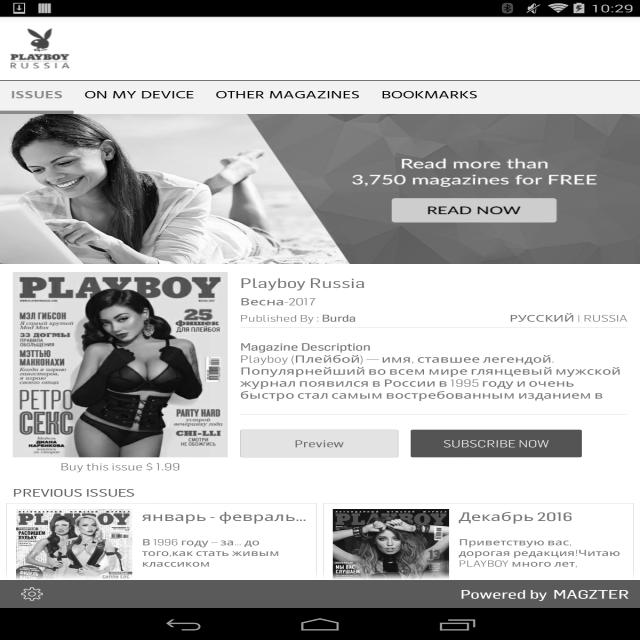ImageView: (0, 114, 640, 264), (13, 272, 228, 457), (16, 509, 132, 610), (333, 509, 449, 610), (11, 28, 181, 68), (21, 587, 43, 601)
TextView: (240, 328, 627, 414), (142, 524, 307, 582), (459, 524, 624, 582), (0, 486, 640, 499), (181, 17, 640, 29), (204, 80, 370, 110), (53, 589, 460, 601), (411, 430, 582, 457), (240, 430, 398, 457), (13, 457, 228, 476), (74, 80, 204, 110), (371, 80, 488, 110), (240, 312, 485, 324), (240, 272, 366, 294), (142, 509, 307, 524), (459, 509, 624, 524), (0, 80, 74, 110), (487, 312, 628, 324), (460, 587, 547, 601), (240, 294, 316, 309), (552, 587, 630, 601)
